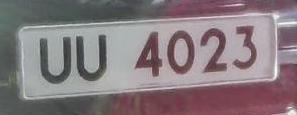0: (164, 23, 199, 81)
2: (197, 23, 233, 78)
3: (230, 18, 262, 73)
4: (131, 26, 168, 85)
U: (72, 27, 116, 90), (34, 32, 76, 89)
